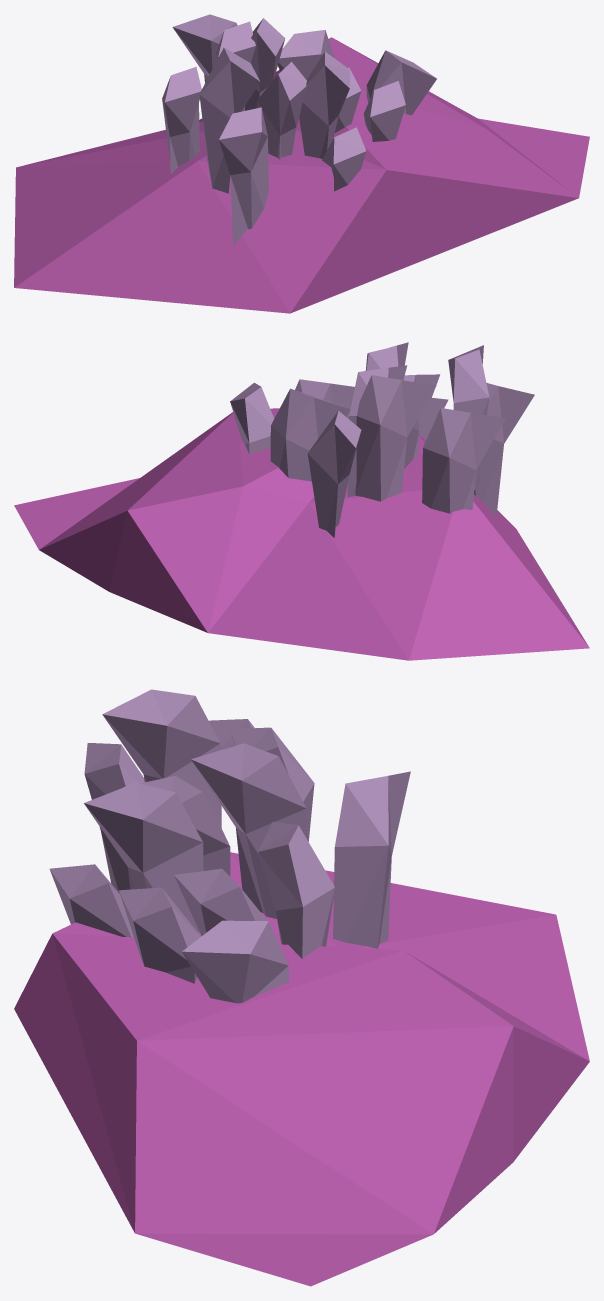
File: coralbed_purple.dae
3 views of the same model, one above another, from view 1: azimuth 30°, elevation 25°; view 2: azimuth 150°, elevation 25°; view 3: azimuth 270°, elevation 25° (orthographic). The views are drawn at different scales.
Visible parts, largest first — view 1: Merged_Meshes; view 2: Merged_Meshes; view 3: Merged_Meshes.
Boxes of the visible parts, left/top/right/bottom form: Merged_Meshes: left=14, top=14, right=589, bottom=313; Merged_Meshes: left=14, top=342, right=589, bottom=660; Merged_Meshes: left=14, top=689, right=589, bottom=1286.
Size of the model in its own units: 2.2 by 0.8164 by 1.34.
